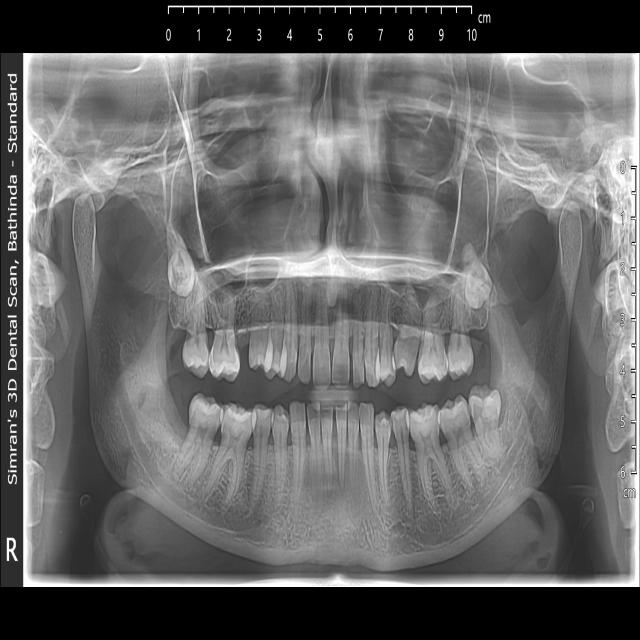Mandibular Canal: (104, 350, 261, 535), (405, 353, 548, 547)
impacted tooth: (470, 384, 507, 463), (167, 221, 196, 295), (463, 242, 491, 311)
maxillary sinus: (363, 135, 488, 302), (169, 148, 297, 304)
